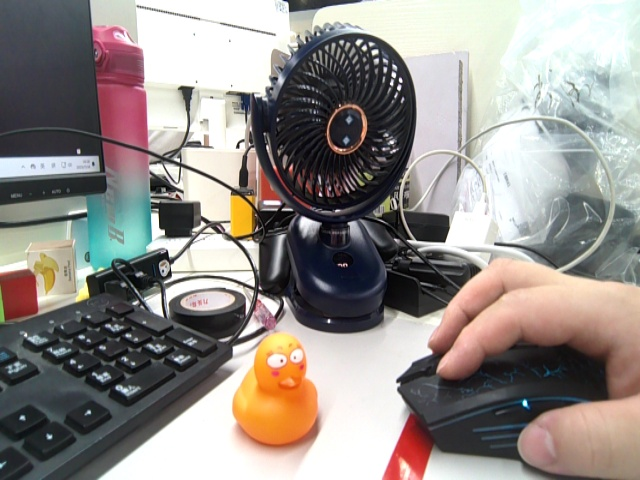duck: (230, 334, 329, 447)
